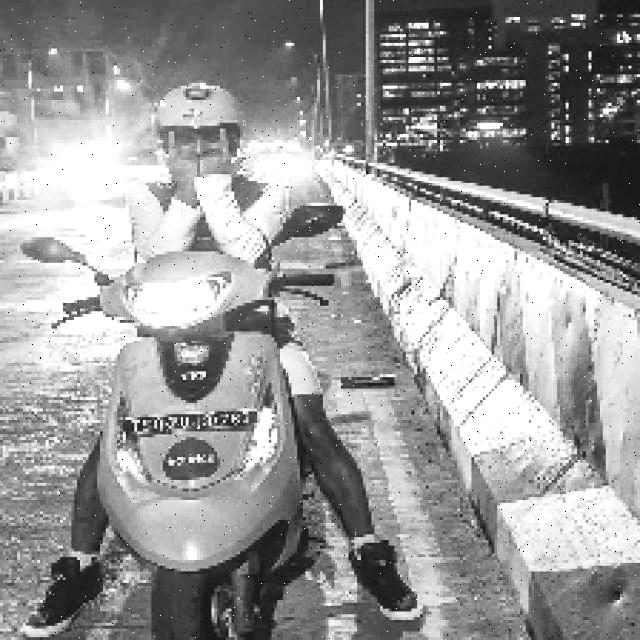Bike: (68, 266, 334, 639)
